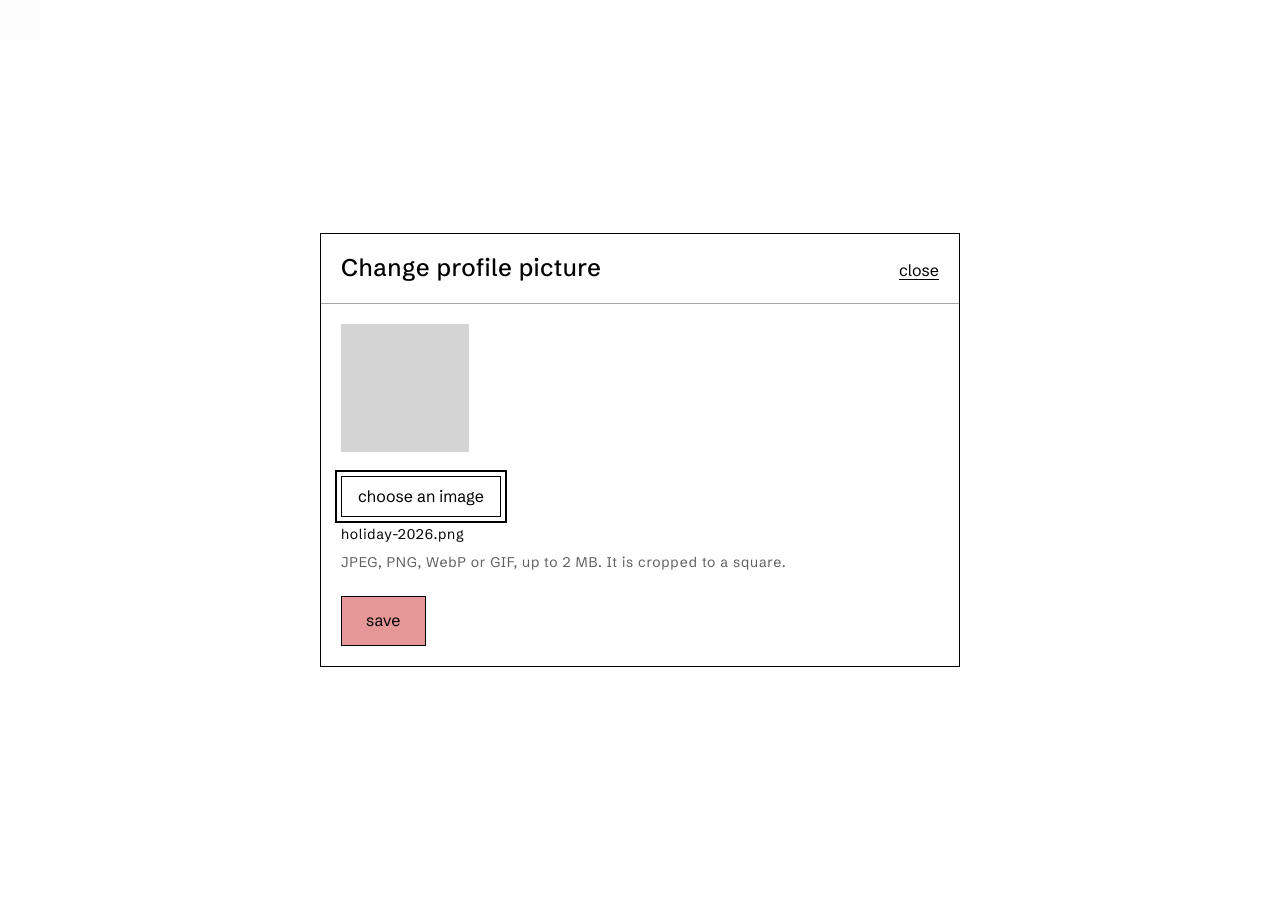
uploading (F-35, F-37, ADR-0012) › shows a network failure in the dialog and keeps the current picture (B-97)
The image size is (1280, 900).
Earlier steps of the test are not shown.
Click the button "save" at [383, 621], box [341, 596, 426, 646]
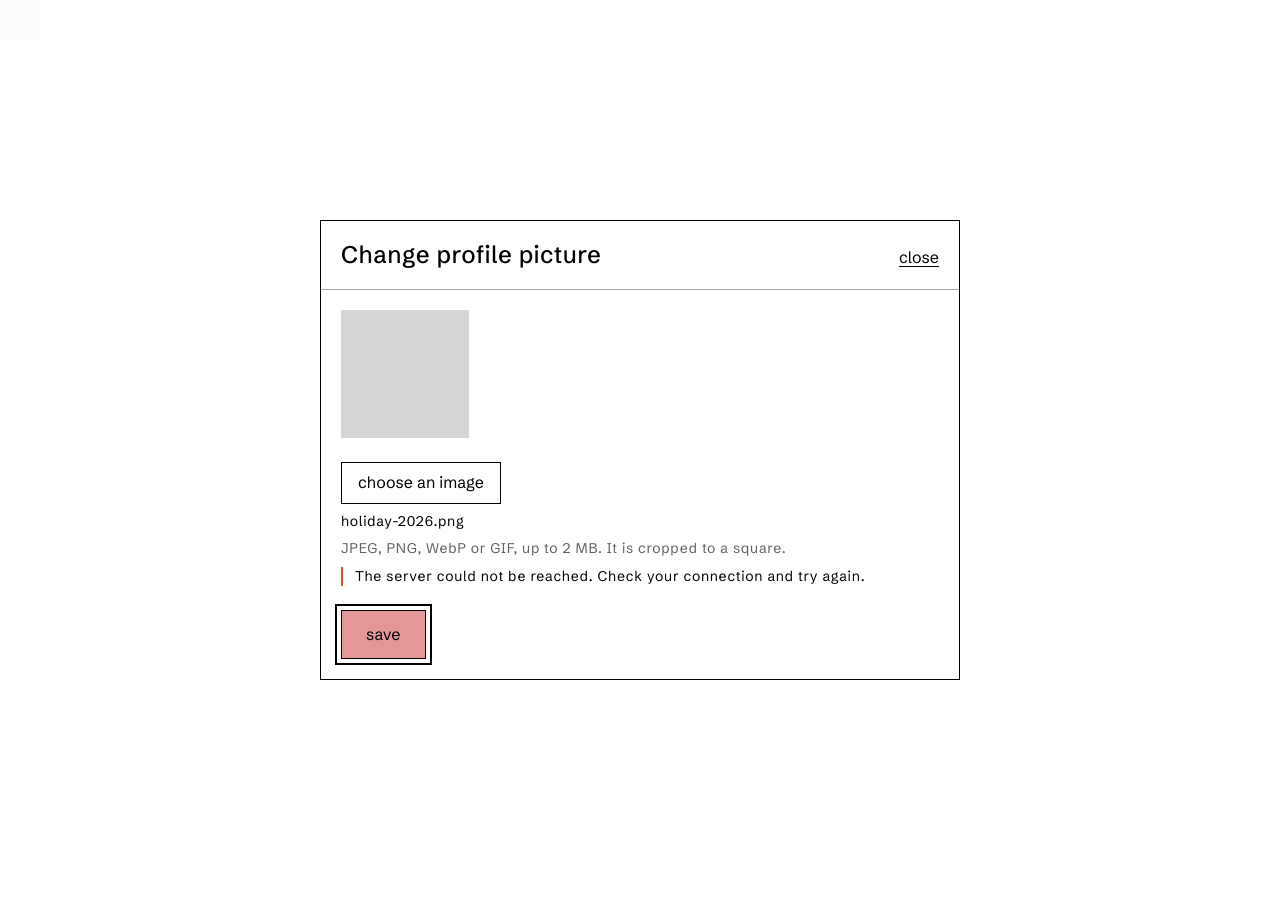
Expected: the button "save" is enabled, [341, 610, 426, 660]
Now the message reads "The server could not be reached. Check your connection and try again.", box [355, 567, 865, 585]
